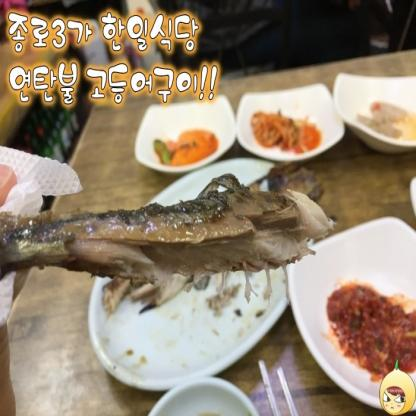Peixe: (0, 168, 335, 326)
